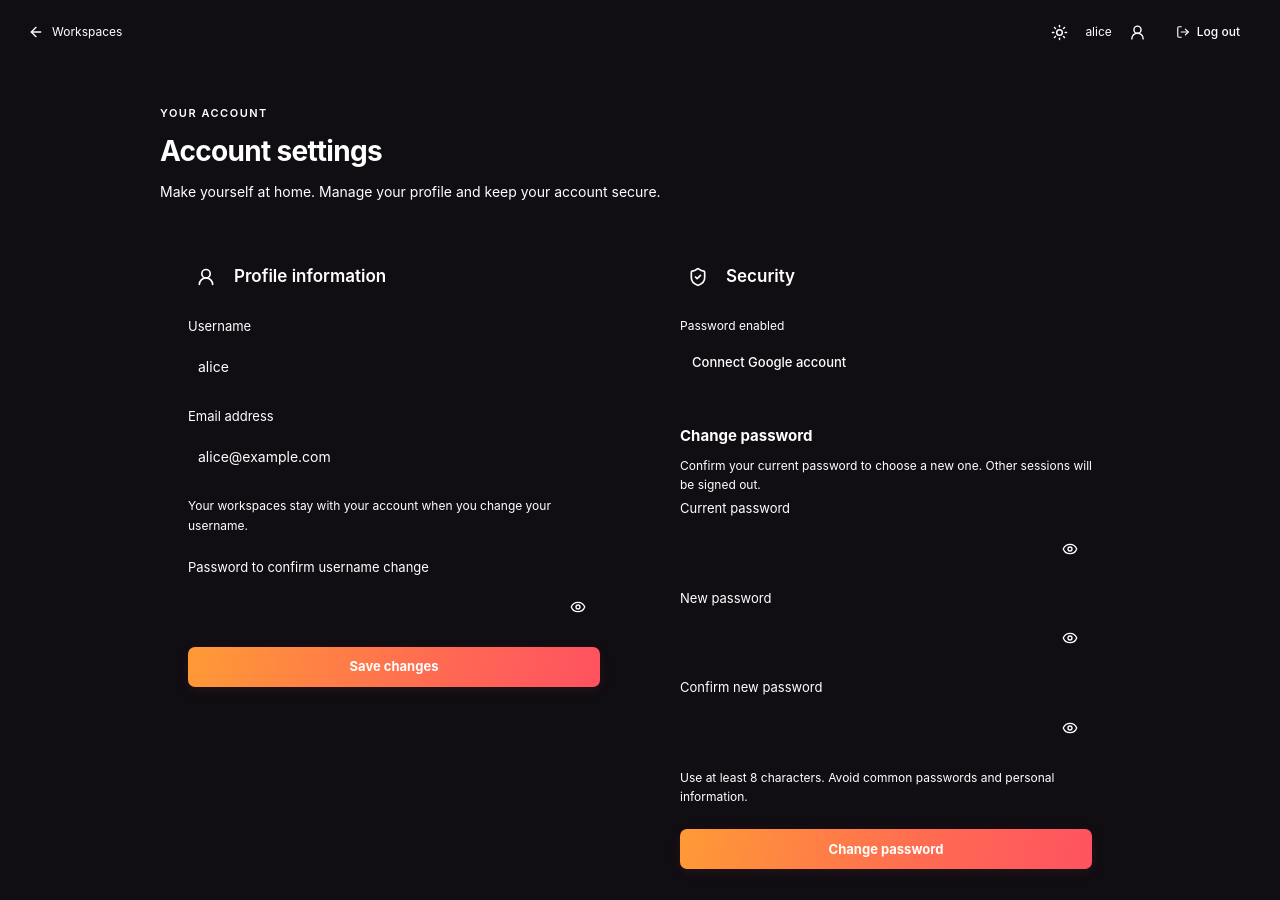
Test: rejects mismatched passwords without requesting a change
Expected: the field labelled "Username" is enabled, [188,345,600,389]
Step 1. Type "old-secret" into the password field labelled "Current password" → (886,549), box [680,527,1092,571]
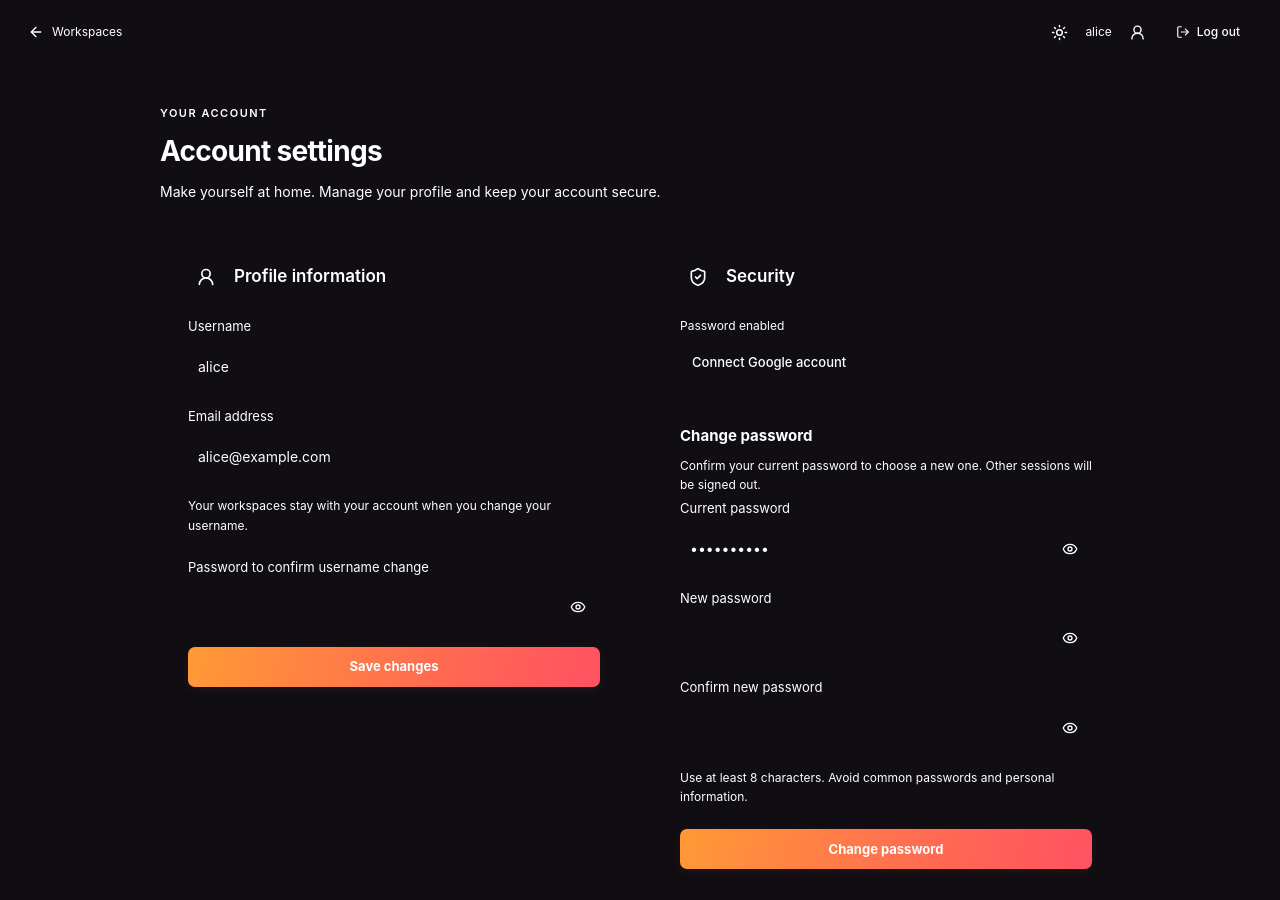
Step 2. Type "A-different-secret!9274" into the password field labelled "New password" → (886,638), box [680,616,1092,660]
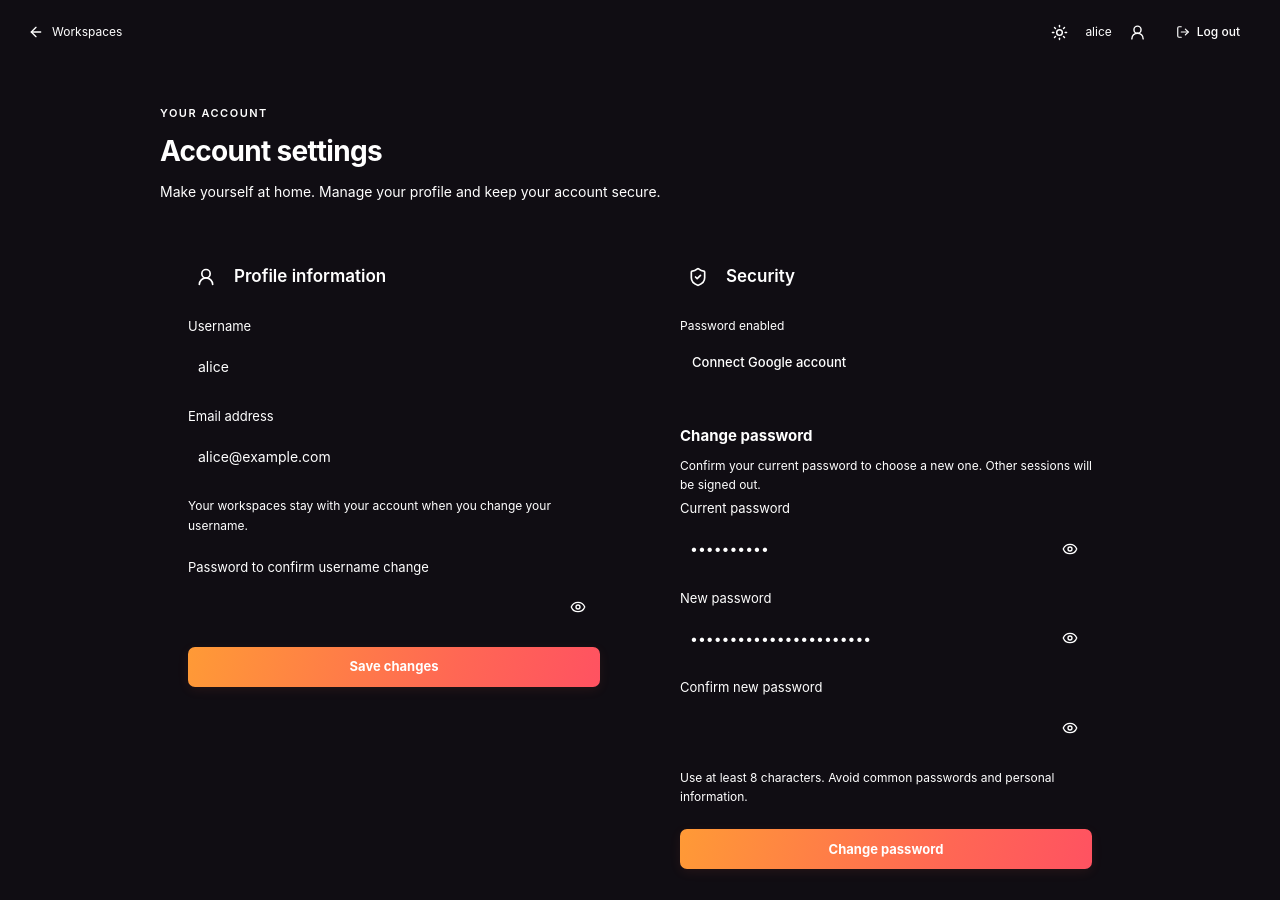
Step 3. Type "mismatch" into the password field labelled "Confirm new password" → (886,728), box [680,706,1092,750]
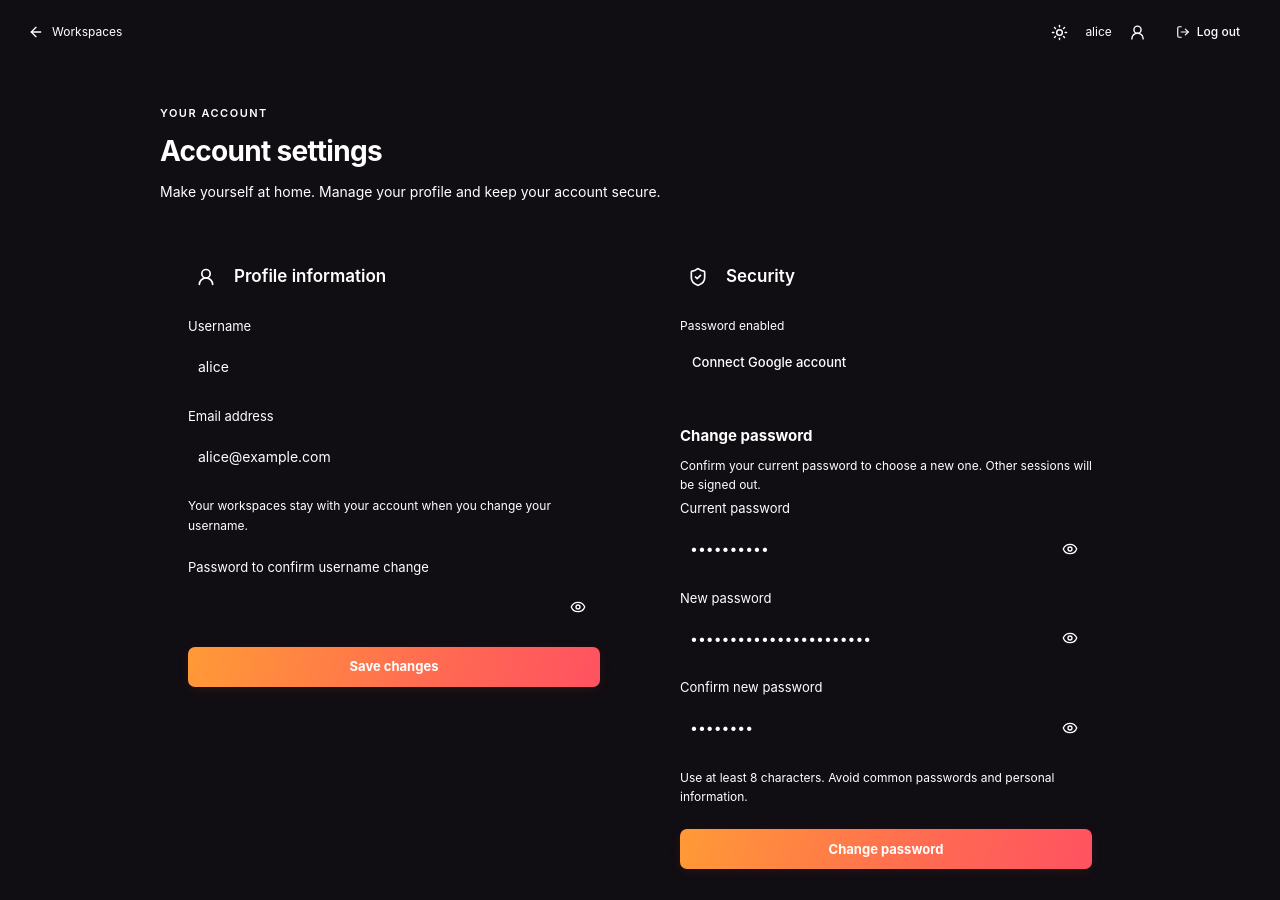
Step 4. Click the button "Change password" → (886,849), box [680,829,1092,869]
(page scrolled)
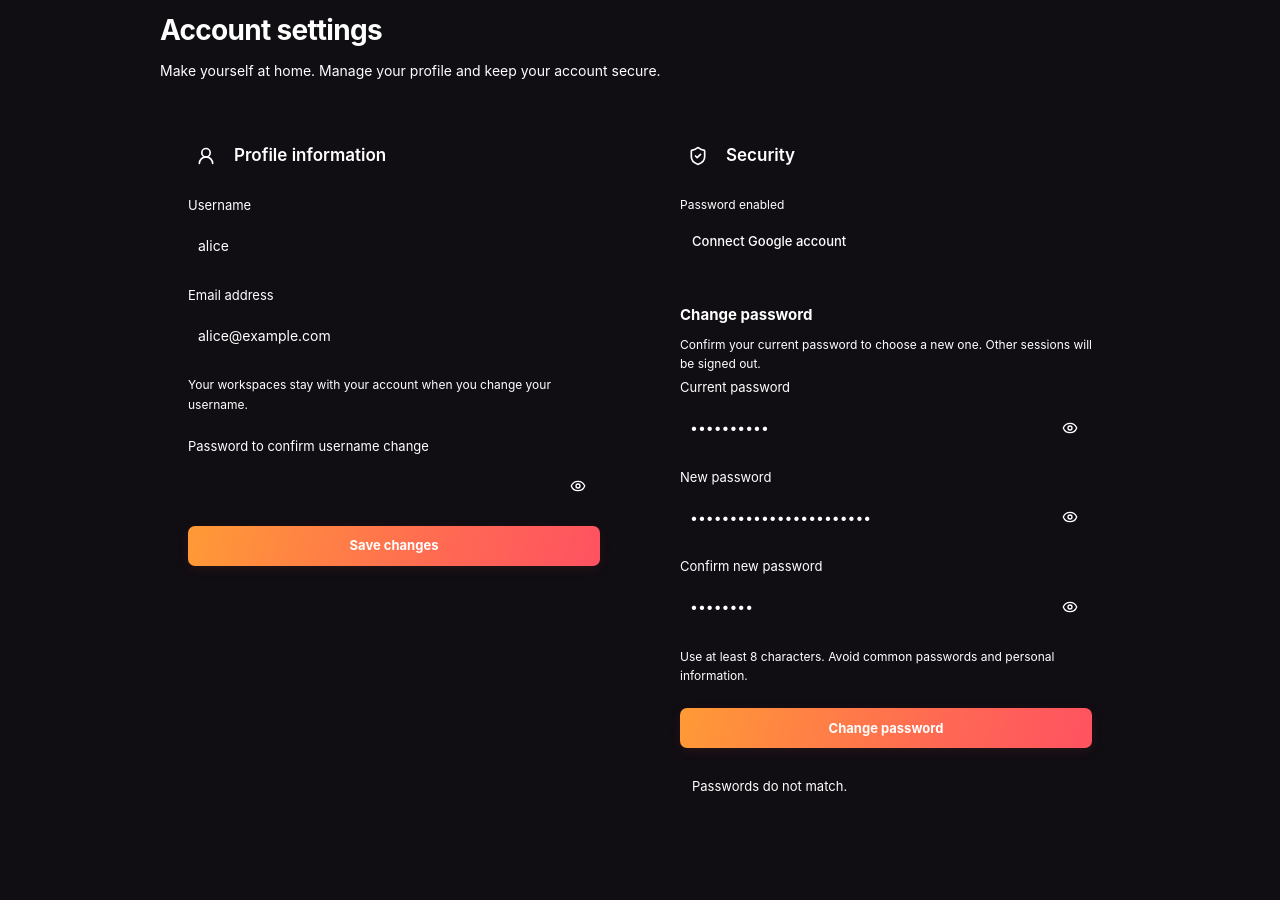
Expected: the message reads "Passwords do not match.", [692,778,847,794]
